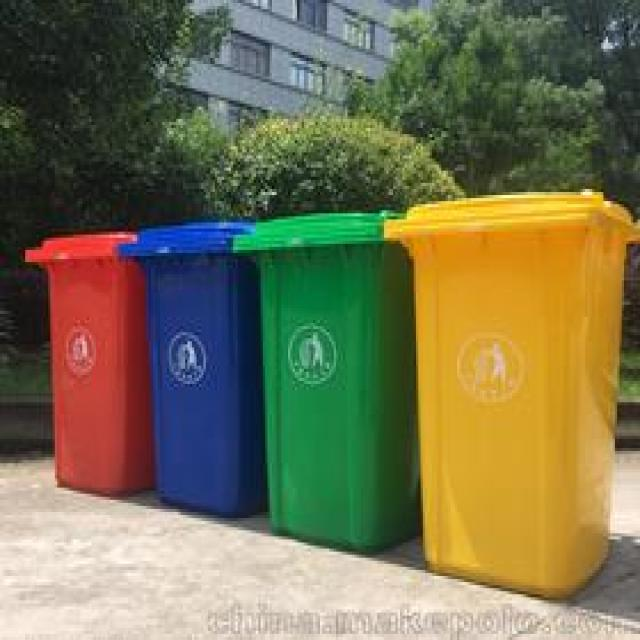garbage_bin: (382, 189, 638, 597), (228, 207, 421, 555), (117, 220, 265, 518), (23, 232, 155, 494)
